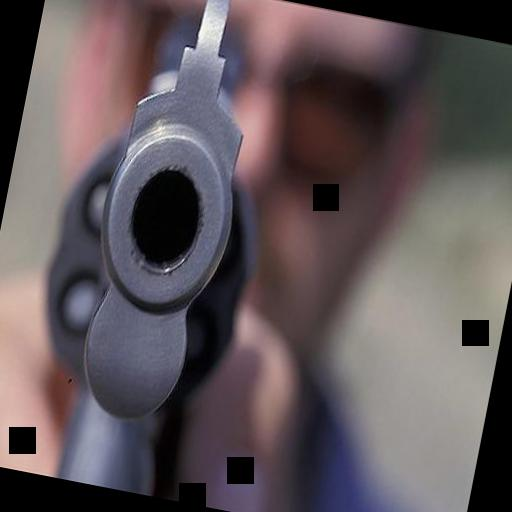Handgun: (4, 0, 298, 503)
